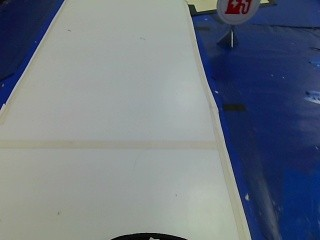battery: (220, 0, 255, 21)
